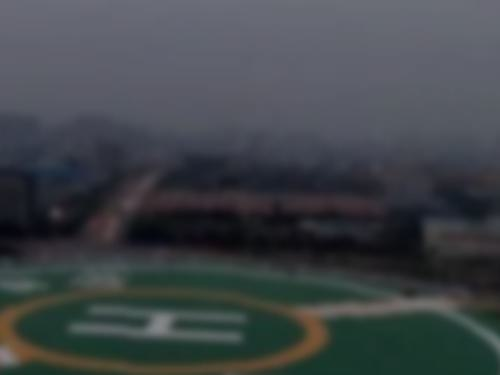Apron: (1, 266, 356, 373)
